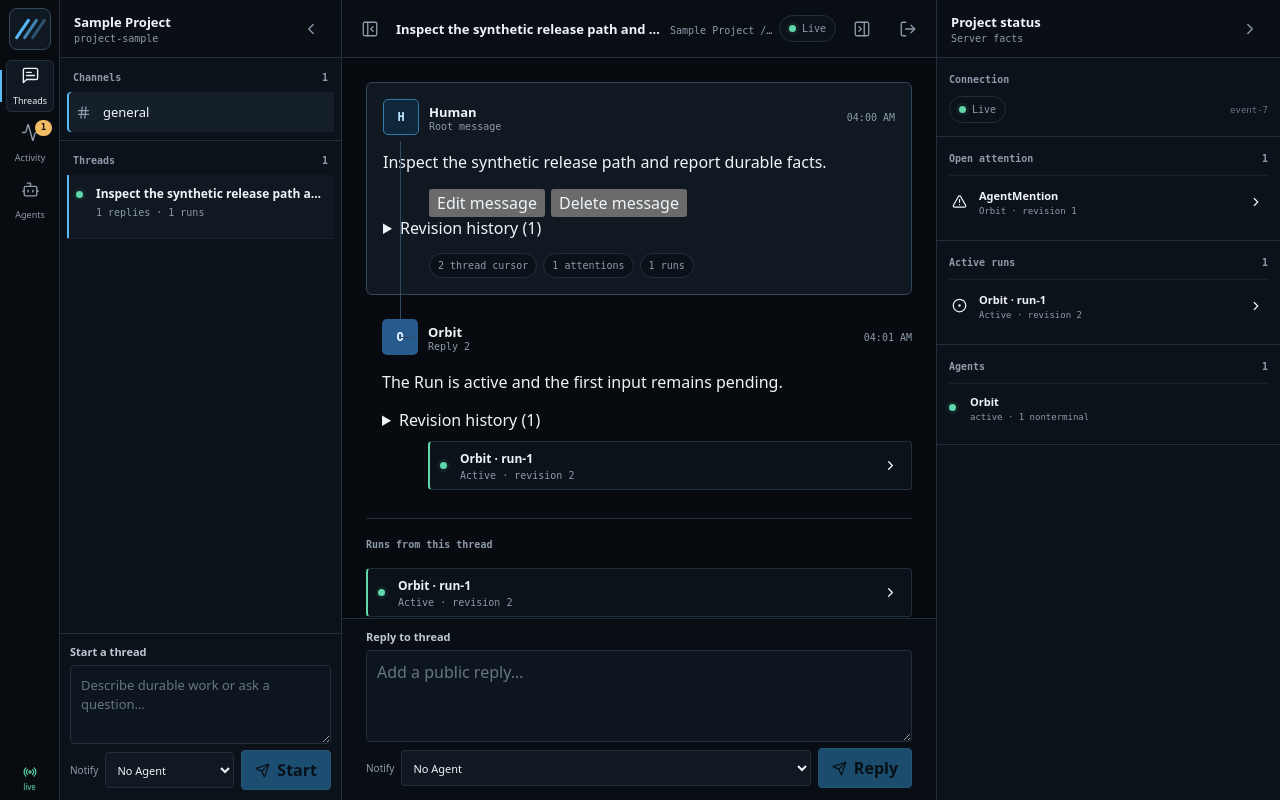
Test case: TorsorApp › preserves composer content and reports a command error
In the text box labelled "Reply to thread": (639, 696) [366,650,912,742], type "Keep this draft after failure."
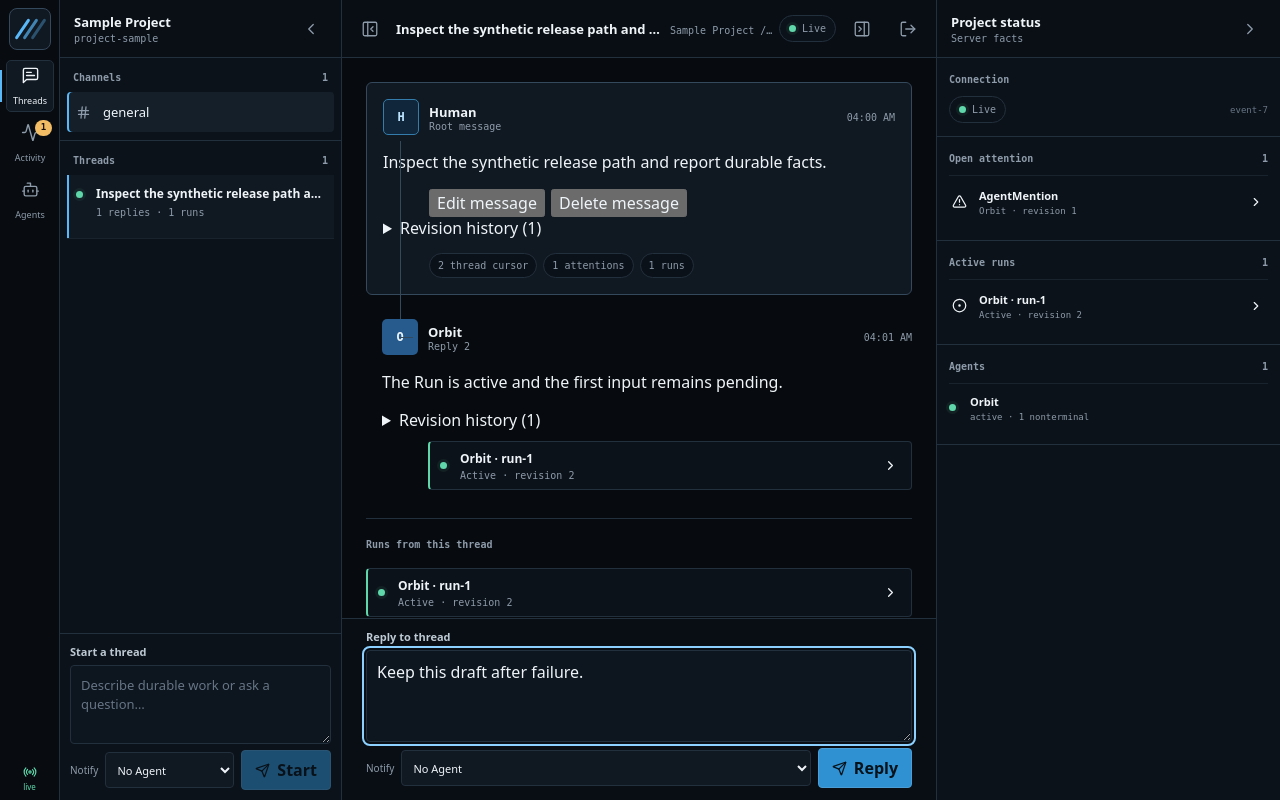
Click the button "Reply": (865, 768) [818,748,912,788]
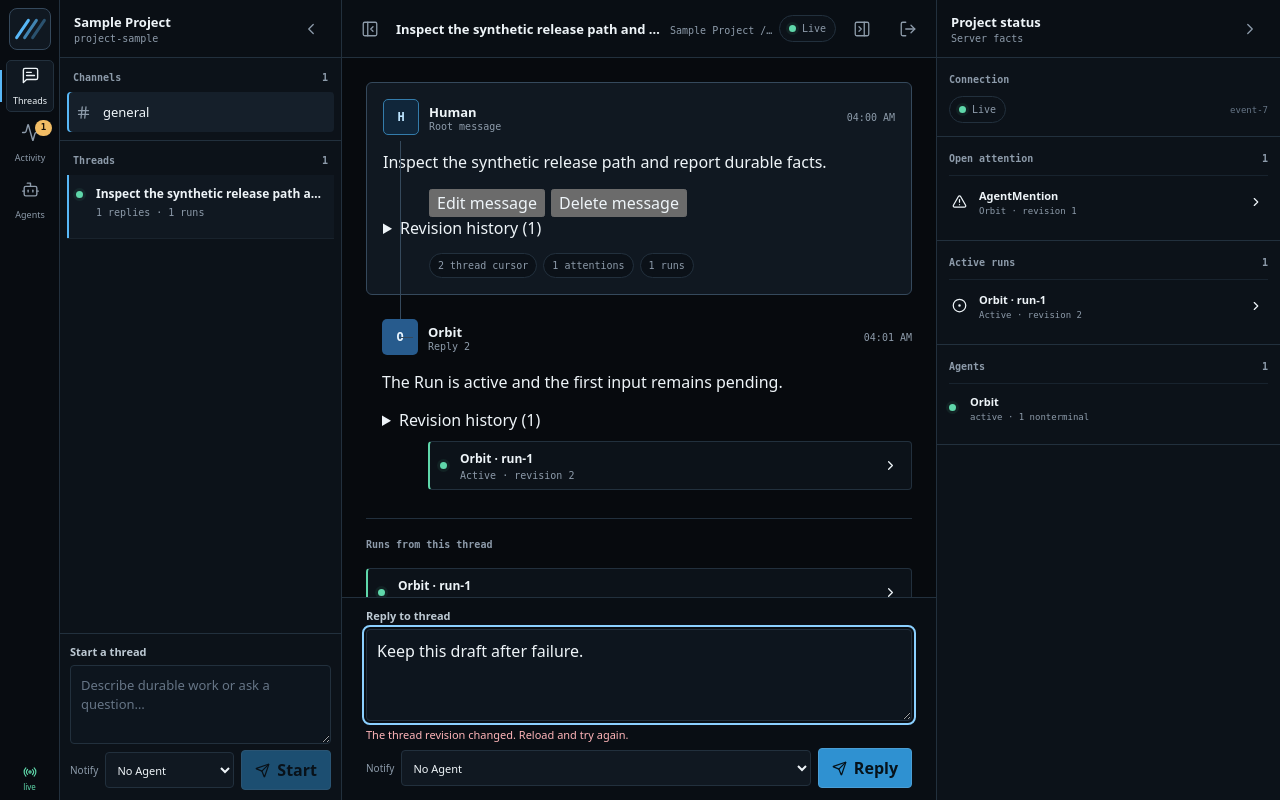
Now the message shows "The thread revision changed", box [366,727,628,742]
